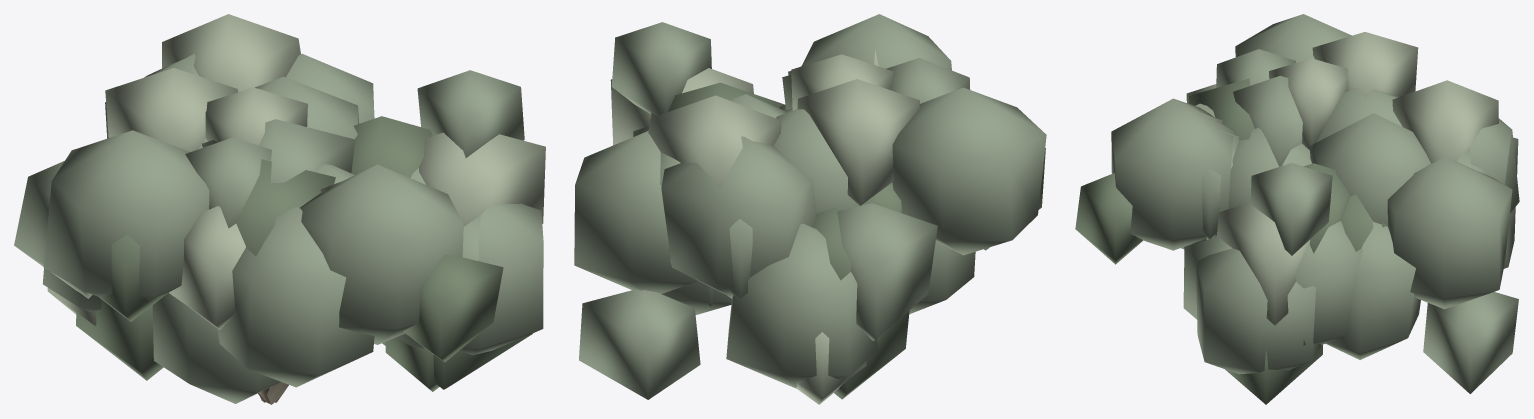
File: SM_MPR3_Bush_0_LOD1.fbx
3 renders of one model, left to right at view 1: azimuth 30°, elevation 25°; view 2: azimuth 150°, elevation 25°; view 3: azimuth 270°, elevation 25°, orthographic. The views are drawn at different scales.
Parts seen in each view (by area): view 1: SM_MPR3_Bush_0_LOD1; view 2: SM_MPR3_Bush_0_LOD1; view 3: SM_MPR3_Bush_0_LOD1.
Boxes of the visible parts, bbox=[...] form: SM_MPR3_Bush_0_LOD1: bbox=[14, 14, 545, 404]; SM_MPR3_Bush_0_LOD1: bbox=[574, 14, 1046, 404]; SM_MPR3_Bush_0_LOD1: bbox=[1075, 14, 1519, 404].
Size of the model in its own units: 201 by 196 by 135.
